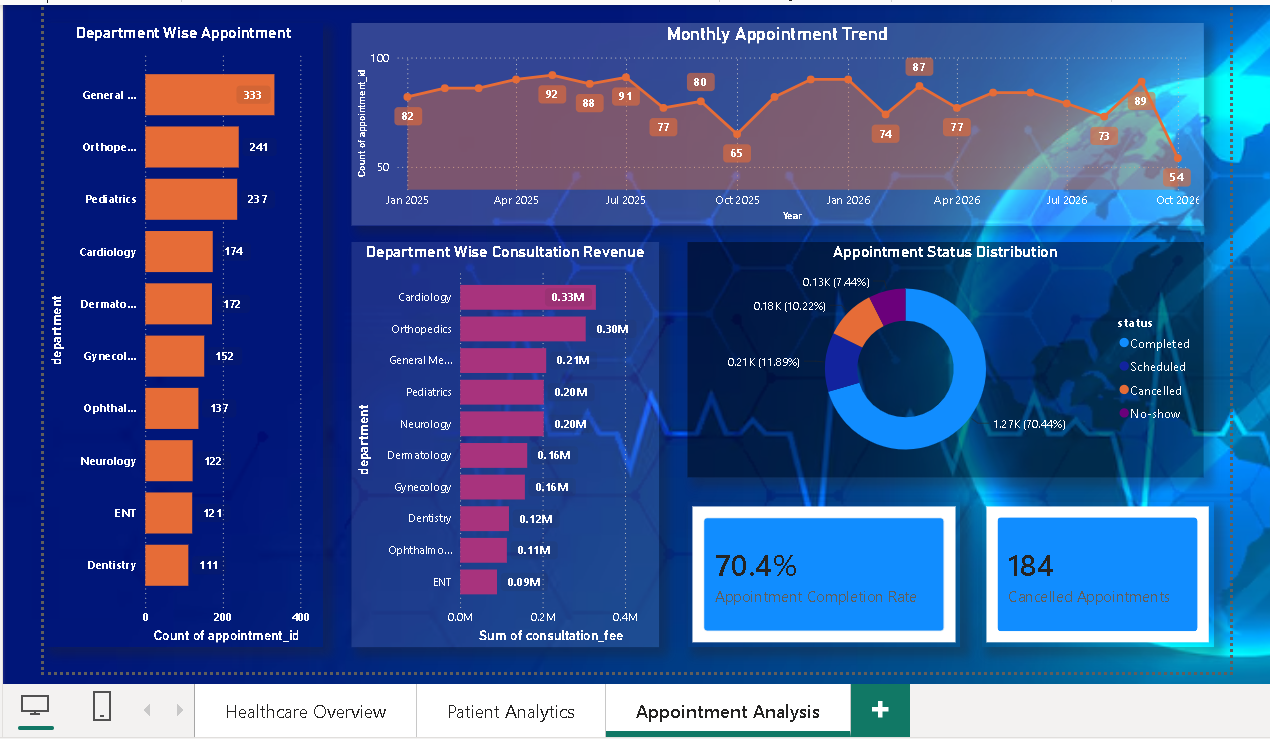

Layout of this report page (visuals, bound fields, positions):
{"tool":"powerbi","page":{"name":"Appointment Analysis","canvas":[1280,720],"ordinal":2},"visuals":[{"type":"donutChart","title":"Appointment Status Distribution","fields":{"Category":["appointments.status"],"Y":["CountNonNull(appointments.appointment_id)"]},"box":[694.6,255.8,557,254.2],"z":0},{"type":"lineChart","title":"Monthly Appointment Trend","fields":{"Category":["appointments.appointment_date.Variation.Date Hierarchy.Year","appointments.appointment_date.Variation.Date Hierarchy.Month"],"Y":["CountNonNull(appointments.appointment_id)"]},"box":[331.9,19.4,919.7,218.6],"z":1000},{"type":"barChart","title":"Department Wise Appointment","fields":{"Category":["appointments.department"],"Y":["CountNonNull(appointments.appointment_id)"]},"box":[0,19.4,301.2,673.6],"z":2000},{"type":"clusteredBarChart","title":"Department Wise Consultation Revenue","fields":{"Category":["appointments.department"],"Y":["Sum(appointments.consultation_fee)"]},"box":[331.9,255.8,331.9,437.2],"z":3000},{"type":"cardVisual","fields":{"Data":["appointments.Appointment Completion Rate"]},"box":[694.6,536,294.7,157.1],"z":4000},{"type":"cardVisual","fields":{"Data":["appointments.Cancelled Appointments"]},"box":[1012,536,251,157.1],"z":5000}]}

Visuals, with their boxes on the page's 1280x720 design canvas (x1, y1, x2, y2). These are canvas units, not pixel positions in the 1270x739 screenshot, which may show the page scaled, cropped or inside an application window:
"Appointment Status Distribution" donutChart: 695, 256, 1252, 510
"Monthly Appointment Trend" lineChart: 332, 19, 1252, 238
"Department Wise Appointment" barChart: 0, 19, 301, 693
"Department Wise Consultation Revenue" clusteredBarChart: 332, 256, 664, 693
cardVisual - appointments.Appointment Completion Rate: 695, 536, 989, 693
cardVisual - appointments.Cancelled Appointments: 1012, 536, 1263, 693
